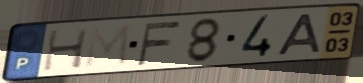4: (238, 13, 275, 60)
8: (184, 16, 224, 64)
A: (274, 12, 323, 57)
F: (135, 19, 184, 68)
H: (40, 26, 92, 73)
M: (82, 23, 134, 71)
